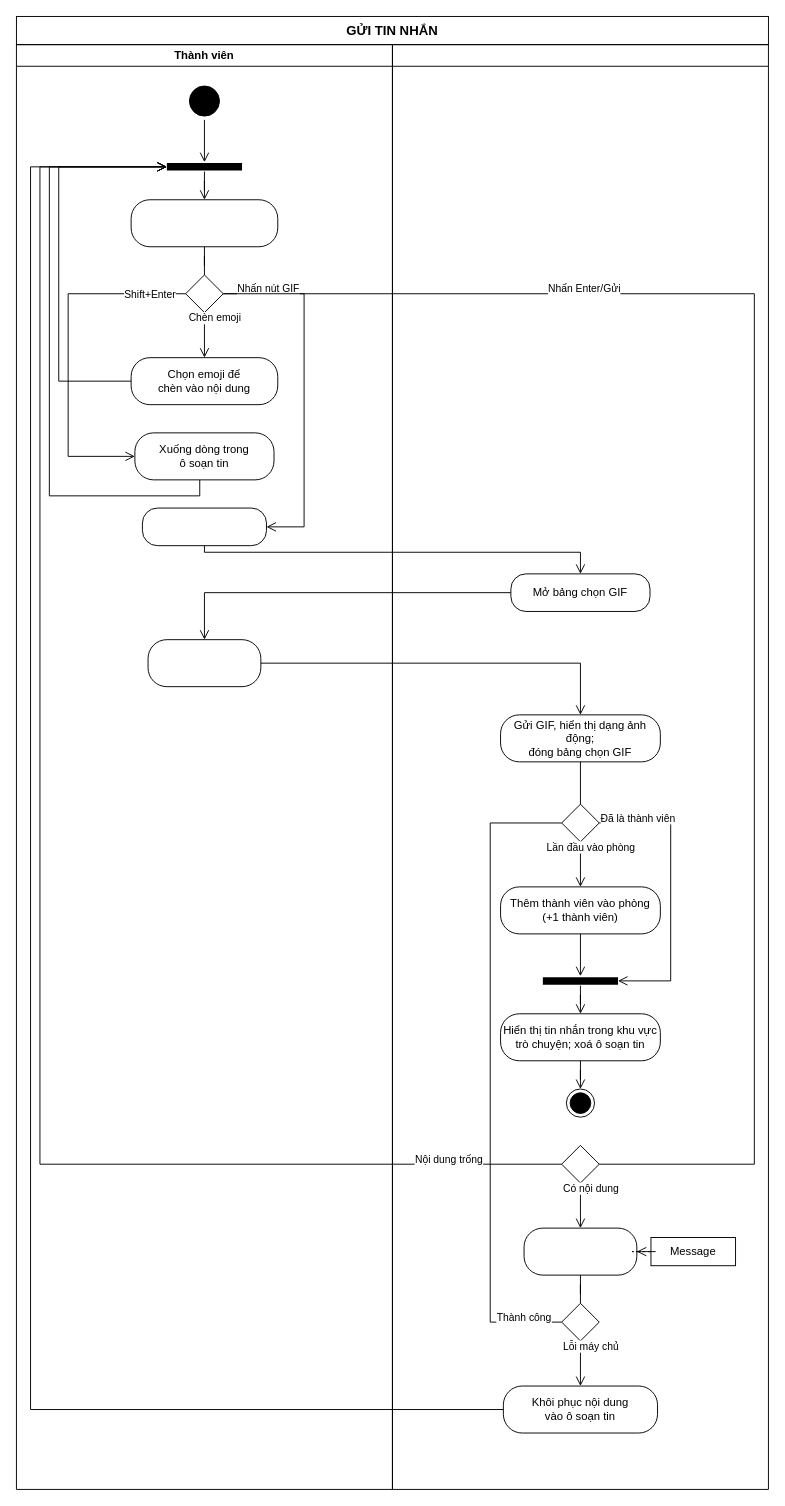
Image size: 785x1506. Some labels were removed from this diagram. The box of each missing label's shape, as (x1, y1, x2, y2) in pixels:
Gửi tin nhắn lên máy chủ: (523, 1227, 637, 1275)
Hệ thống: (392, 44, 768, 1489)
Nhấn nút "GIF": (141, 507, 266, 546)
Nhập nội dung vào ô soạn tin: (130, 199, 278, 247)
Tìm kiếm và chọn một GIF: (147, 639, 261, 687)
